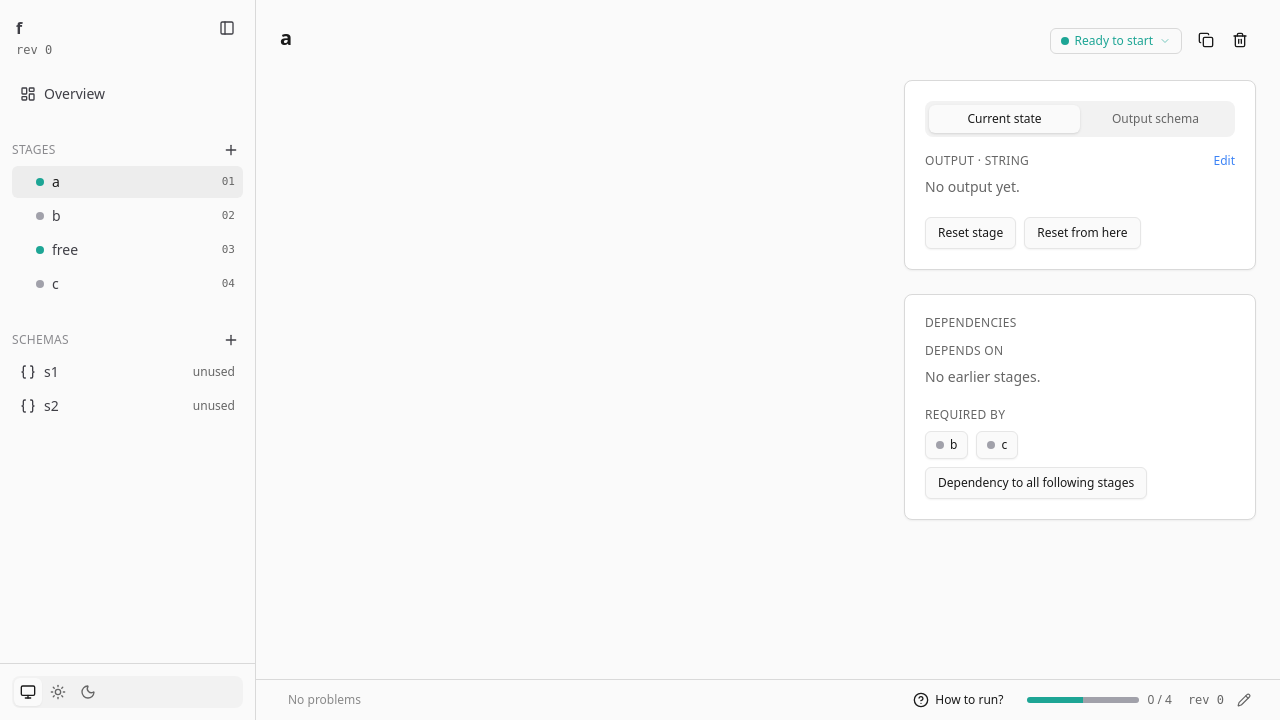
Test: stage list › delete_with_dependents_requires_unlinking
This screenshot has width=1280, height=720.
Later steps or results of the test are not shown.
Click the button named "Delete stage" at (1240, 40), box [1224,24,1256,56]
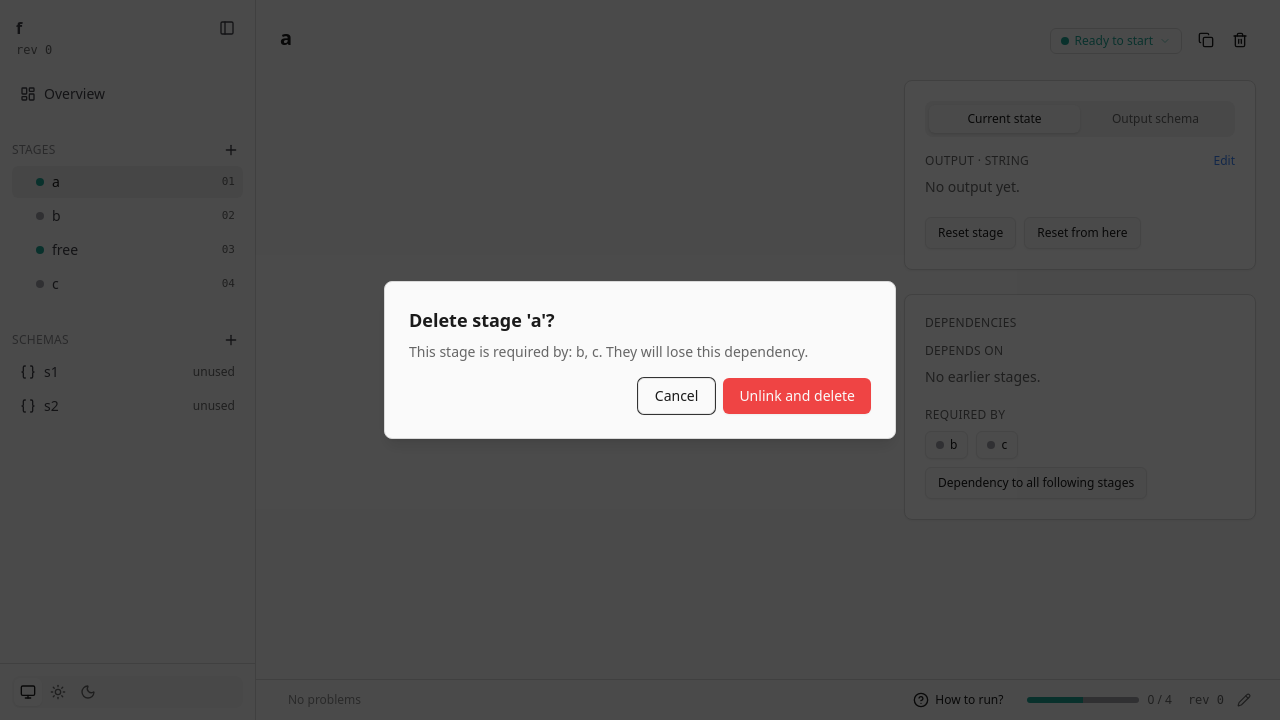
Expected: the dialog shows "required by", [409,342,576,361]
Expected: the dialog shows "b", [576,342,599,361]
